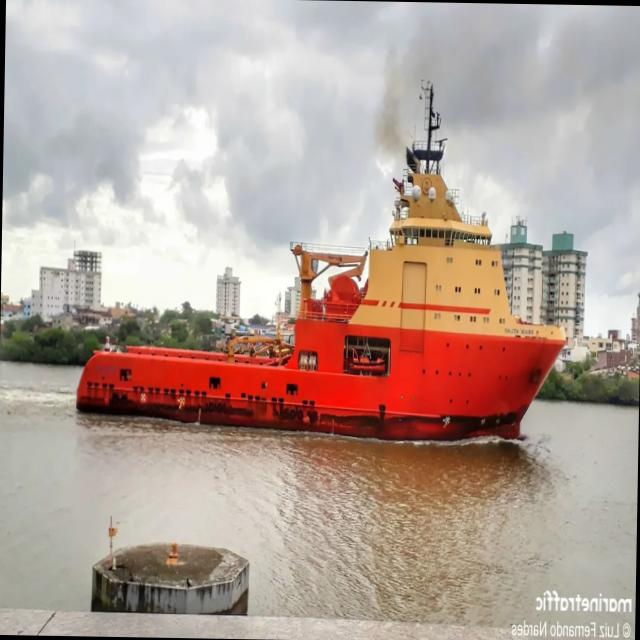Offshore: (75, 83, 565, 440)
